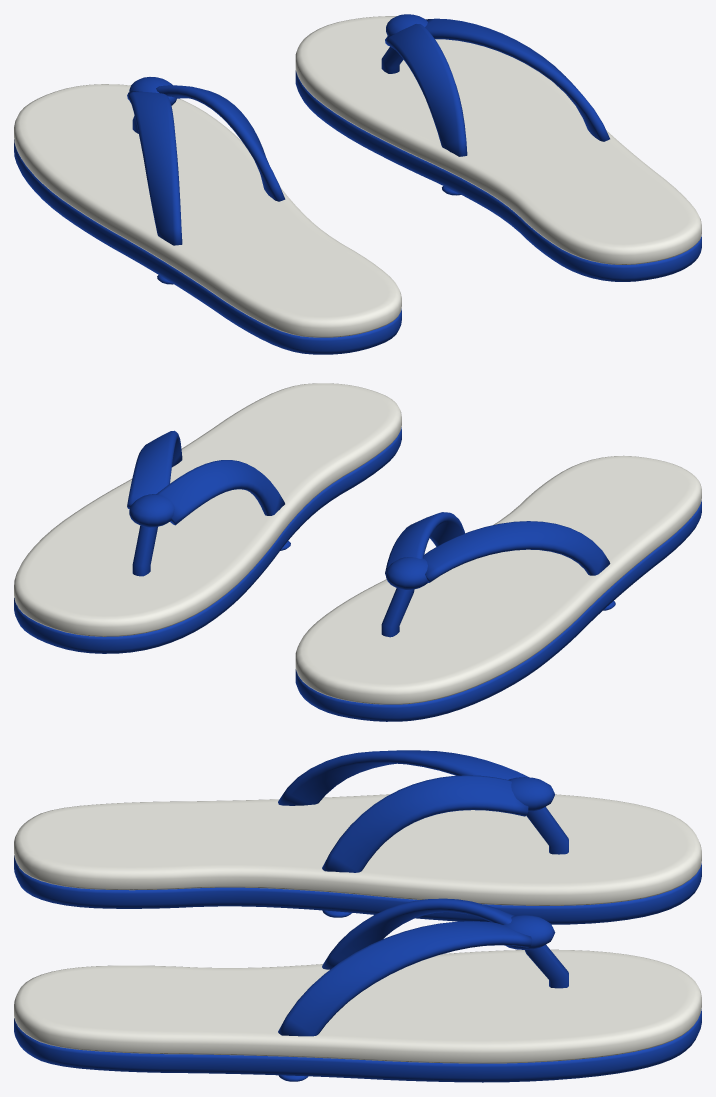
File: SM_Distractor_FlipFlops.fbx
The picture shows the model from 3 angles, top to bottom: view 1: azimuth 30°, elevation 25°; view 2: azimuth 150°, elevation 25°; view 3: azimuth 270°, elevation 25°; orthographic projection. The views are drawn at different scales.
Parts seen in each view (by area): view 1: SM_Distractor_FlipFlops; view 2: SM_Distractor_FlipFlops; view 3: SM_Distractor_FlipFlops.
Boxes of the visible parts, x1=… form: SM_Distractor_FlipFlops: x1=14, y1=14, x2=701, y2=354; SM_Distractor_FlipFlops: x1=14, y1=383, x2=701, y2=721; SM_Distractor_FlipFlops: x1=14, y1=750, x2=701, y2=1082.
Bounding box in the file's own units: 24.82 × 5.6 × 28.02.
